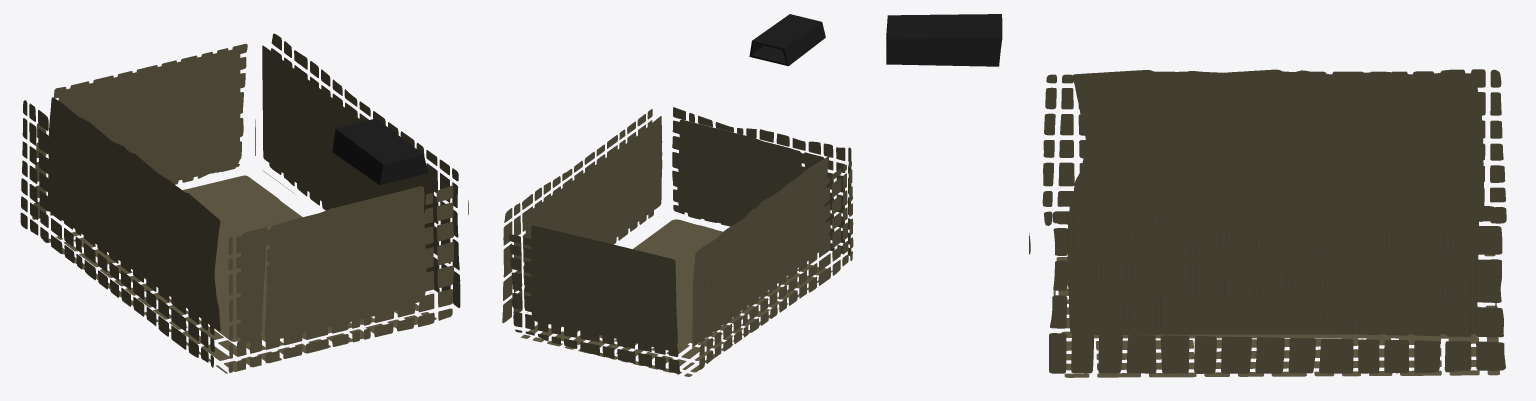
File: frybucket.FBX
3 renders of one model, left to right at view 1: azimuth 30°, elevation 25°; view 2: azimuth 150°, elevation 25°; view 3: azimuth 270°, elevation 25°, orthographic. The views are drawn at different scales.
Visible parts, largest first — view 1: Box001; view 2: Box001; view 3: Box001.
Part boxes in pixels (box(x1,y1,x2,y2)): Box001: box(20, 33, 468, 373); Box001: box(502, 14, 853, 376); Box001: box(886, 14, 1506, 377).
Size of the model in its own units: 19.28 by 17.93 by 35.74.
1 material, 1 textured.
